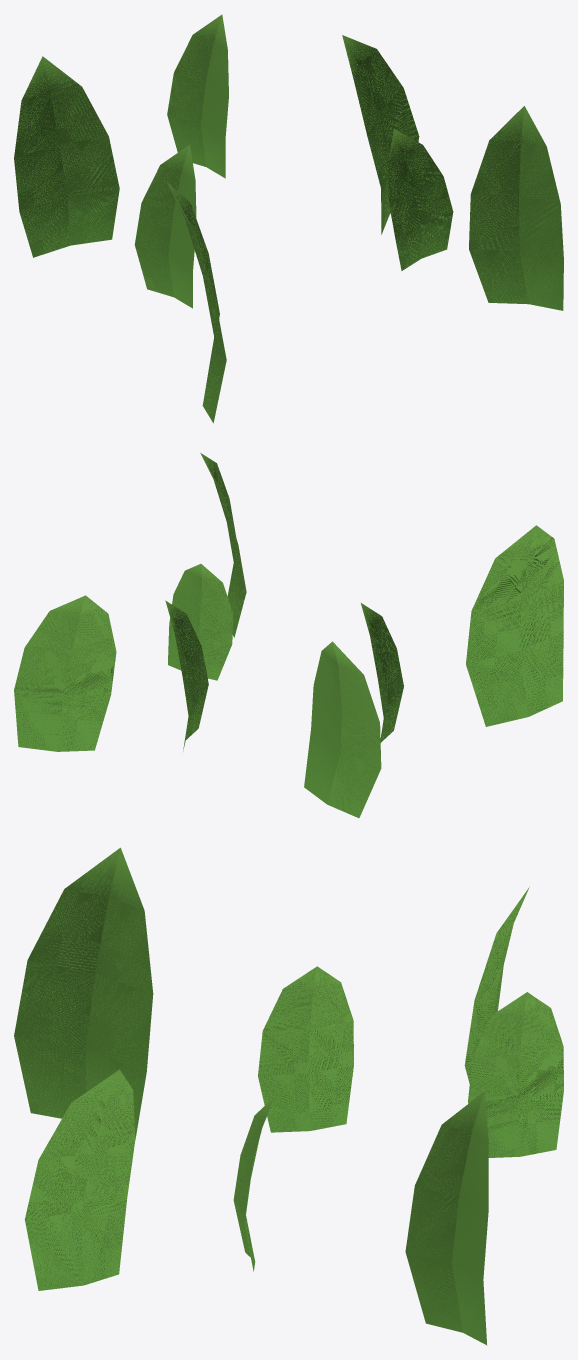
The model's file is cluster_grass_one.glb.
3 views of the same model, one above another, from view 1: azimuth 30°, elevation 25°; view 2: azimuth 150°, elevation 25°; view 3: azimuth 270°, elevation 25° (orthographic). The views are drawn at different scales.
Visible parts, largest first — view 1: Grass_1_SingleSided_Mesh.002, Grass_1_SingleSided_Mesh.001, Grass_1_SingleSided_Mesh.006, Grass_1_SingleSided_Mesh, Grass_1_SingleSided_Mesh.005, Grass_1_SingleSided_Mesh.003, Grass_1_SingleSided_Mesh.004; view 2: Grass_1_SingleSided_Mesh.004, Grass_1_SingleSided_Mesh.003, Grass_1_SingleSided_Mesh.002, Grass_1_SingleSided_Mesh.005, Grass_1_SingleSided_Mesh.006, Grass_1_SingleSided_Mesh, Grass_1_SingleSided_Mesh.001; view 3: Grass_1_SingleSided_Mesh.004, Grass_1_SingleSided_Mesh.001, Grass_1_SingleSided_Mesh.003, Grass_1_SingleSided_Mesh, Grass_1_SingleSided_Mesh.006, Grass_1_SingleSided_Mesh.002, Grass_1_SingleSided_Mesh.005.
Part boxes in pixels (x1=…): Grass_1_SingleSided_Mesh.002: x1=14, y1=56, x2=119, y2=257; Grass_1_SingleSided_Mesh.001: x1=469, y1=106, x2=563, y2=310; Grass_1_SingleSided_Mesh.006: x1=167, y1=14, x2=228, y2=178; Grass_1_SingleSided_Mesh: x1=134, y1=144, x2=196, y2=308; Grass_1_SingleSided_Mesh.005: x1=388, y1=129, x2=453, y2=270; Grass_1_SingleSided_Mesh.003: x1=342, y1=35, x2=419, y2=234; Grass_1_SingleSided_Mesh.004: x1=167, y1=182, x2=226, y2=423; Grass_1_SingleSided_Mesh.004: x1=466, y1=525, x2=563, y2=726; Grass_1_SingleSided_Mesh.003: x1=14, y1=595, x2=116, y2=751; Grass_1_SingleSided_Mesh.002: x1=304, y1=641, x2=381, y2=817; Grass_1_SingleSided_Mesh.005: x1=168, y1=564, x2=232, y2=680; Grass_1_SingleSided_Mesh.006: x1=165, y1=600, x2=208, y2=751; Grass_1_SingleSided_Mesh: x1=361, y1=603, x2=403, y2=742; Grass_1_SingleSided_Mesh.001: x1=200, y1=453, x2=246, y2=637; Grass_1_SingleSided_Mesh.004: x1=14, y1=847, x2=153, y2=1139; Grass_1_SingleSided_Mesh.001: x1=24, y1=1069, x2=135, y2=1290; Grass_1_SingleSided_Mesh.003: x1=405, y1=1091, x2=488, y2=1345; Grass_1_SingleSided_Mesh: x1=258, y1=966, x2=353, y2=1132; Grass_1_SingleSided_Mesh.006: x1=468, y1=992, x2=563, y2=1157; Grass_1_SingleSided_Mesh.002: x1=464, y1=887, x2=529, y2=1083; Grass_1_SingleSided_Mesh.005: x1=233, y1=1097, x2=274, y2=1271.
Size of the model in its own units: 1.27 by 0.6915 by 1.25.
7 materials, 7 textured.
